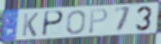3: (134, 5, 155, 33)
7: (113, 6, 131, 34)
K: (21, 13, 40, 38)
O: (66, 9, 87, 36)
P: (40, 10, 65, 38), (88, 8, 109, 35)
